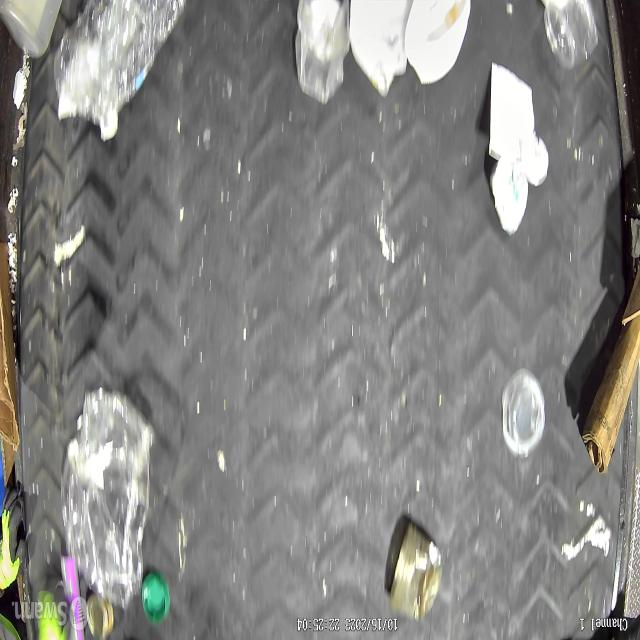can: (390, 523, 442, 620), (86, 593, 114, 640)
milk_jug: (349, 0, 411, 98), (404, 1, 470, 86)
plastic_bottle: (62, 391, 154, 605), (52, 0, 185, 128)
